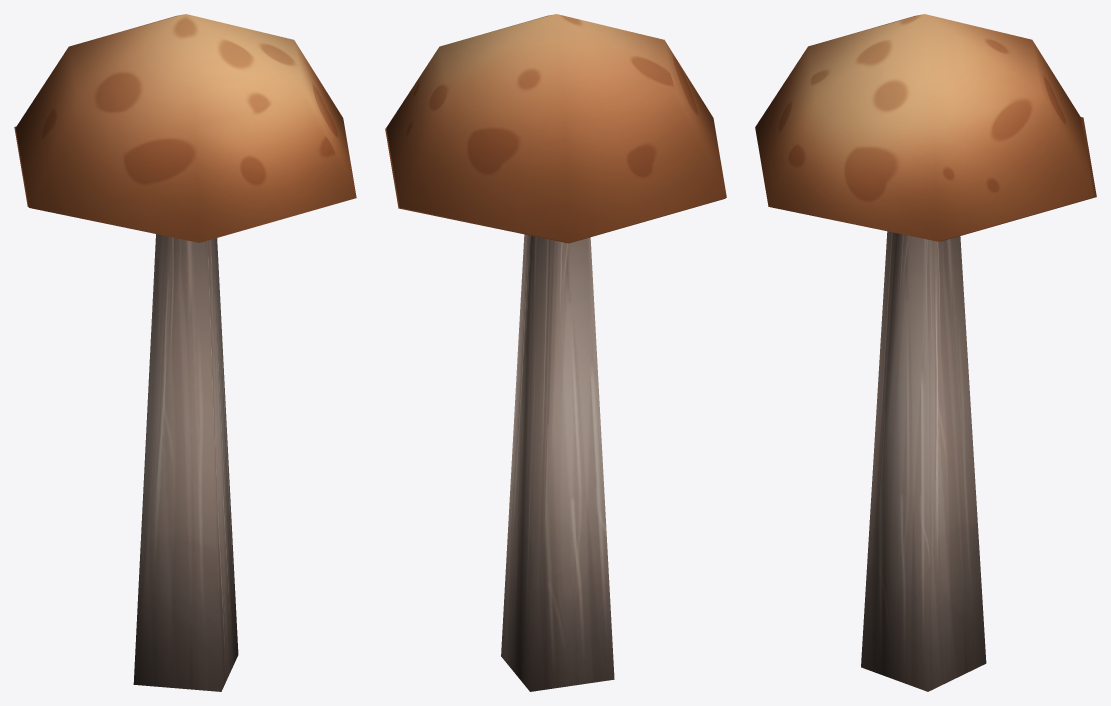
The model's file is fungus_02.fbx.
3 renders of one model, left to right at view 1: azimuth 30°, elevation 25°; view 2: azimuth 150°, elevation 25°; view 3: azimuth 270°, elevation 25°, orthographic.
Parts seen in each view (by area): view 1: fungus_02; view 2: fungus_02; view 3: fungus_02.
Part boxes in pixels (x1=…): fungus_02: x1=14, y1=14, x2=356, y2=691; fungus_02: x1=385, y1=14, x2=726, y2=691; fungus_02: x1=755, y1=14, x2=1096, y2=691.
Bounding box in the file's own units: 0.677 × 1.29 × 0.6147.
